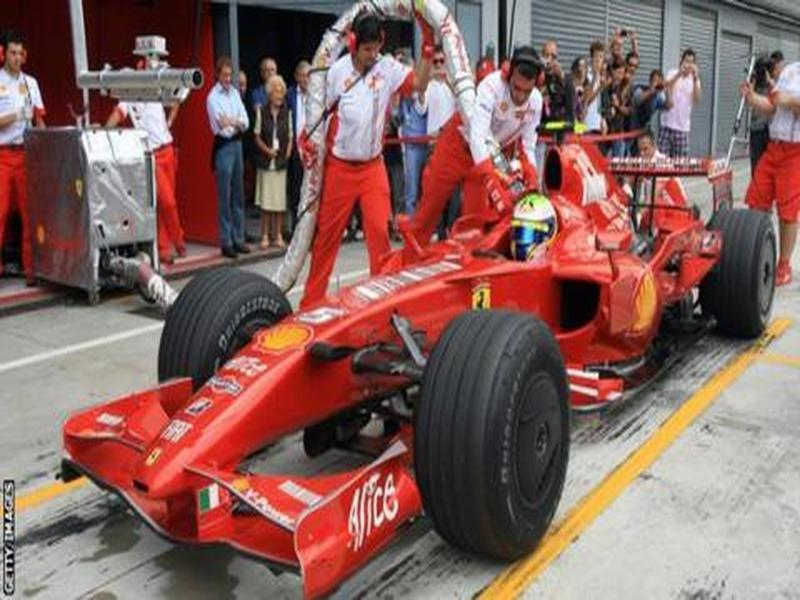f1: (58, 88, 785, 564)
